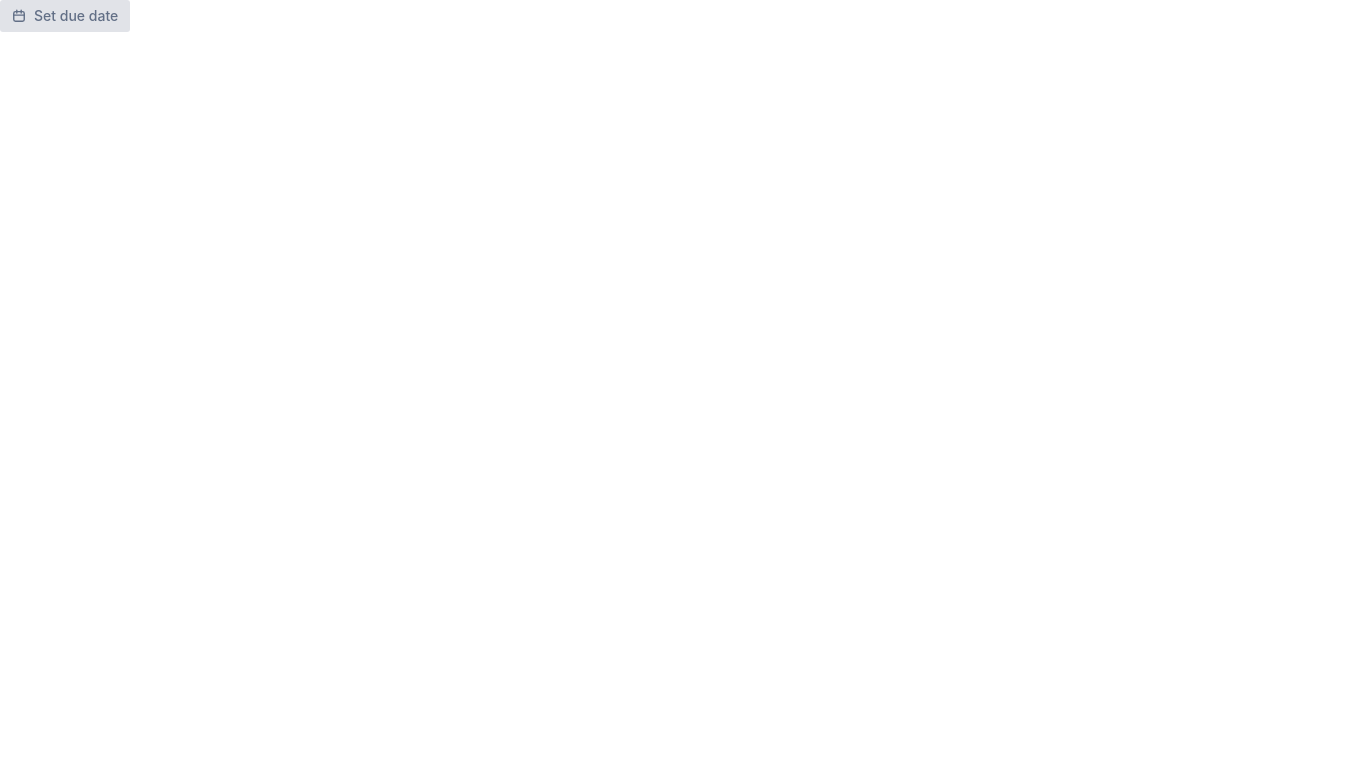
Scenario: DateTimeField › cannot add a time before a date is chosen, and removing the time keeps the date
Later steps or results of the test are not shown.
Click the button with aria-label "due date: ". click: (65, 16)
box: [0,0,130,32]
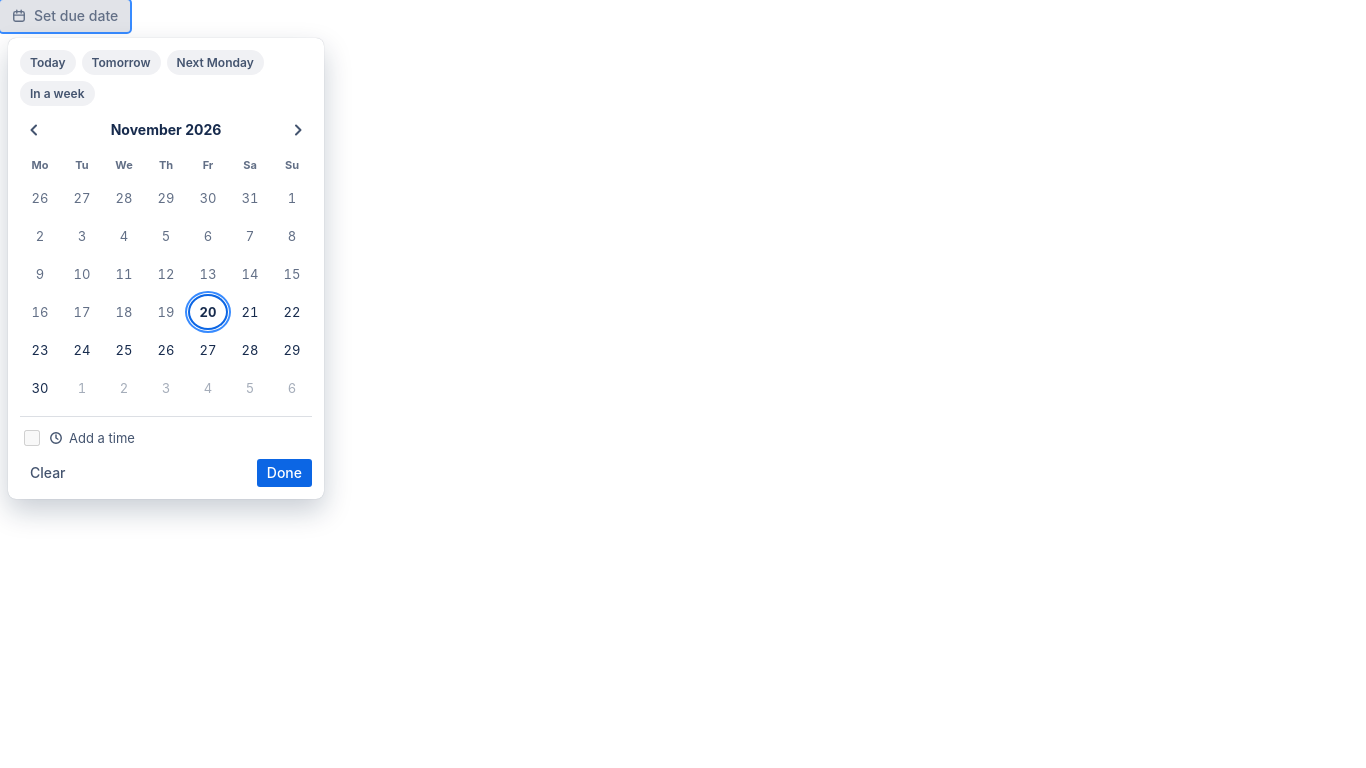
Check: the checkbox labelled "Add a time" is disabled, box [24,430,40,446]
